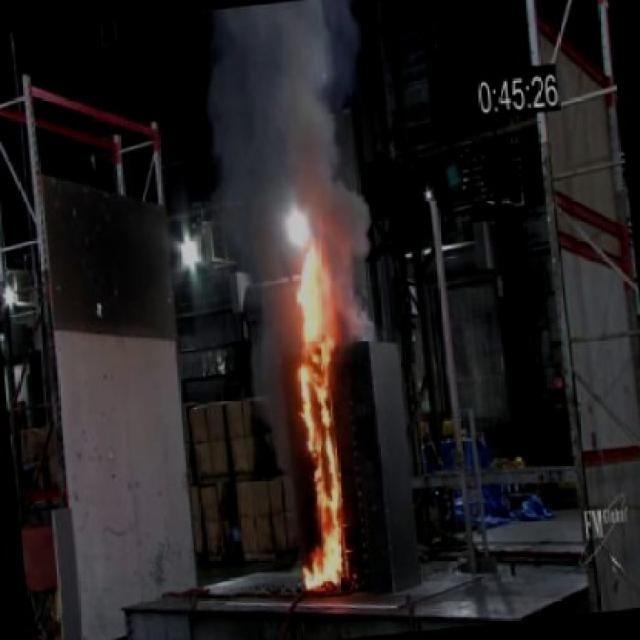fire: (277, 302, 352, 564)
smoke: (209, 0, 373, 305)
